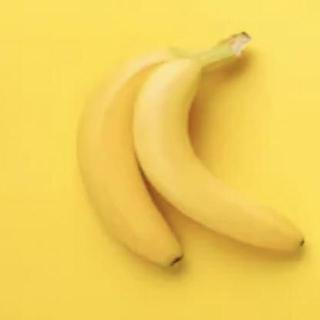banana: (130, 59, 308, 255), (73, 44, 189, 270)
